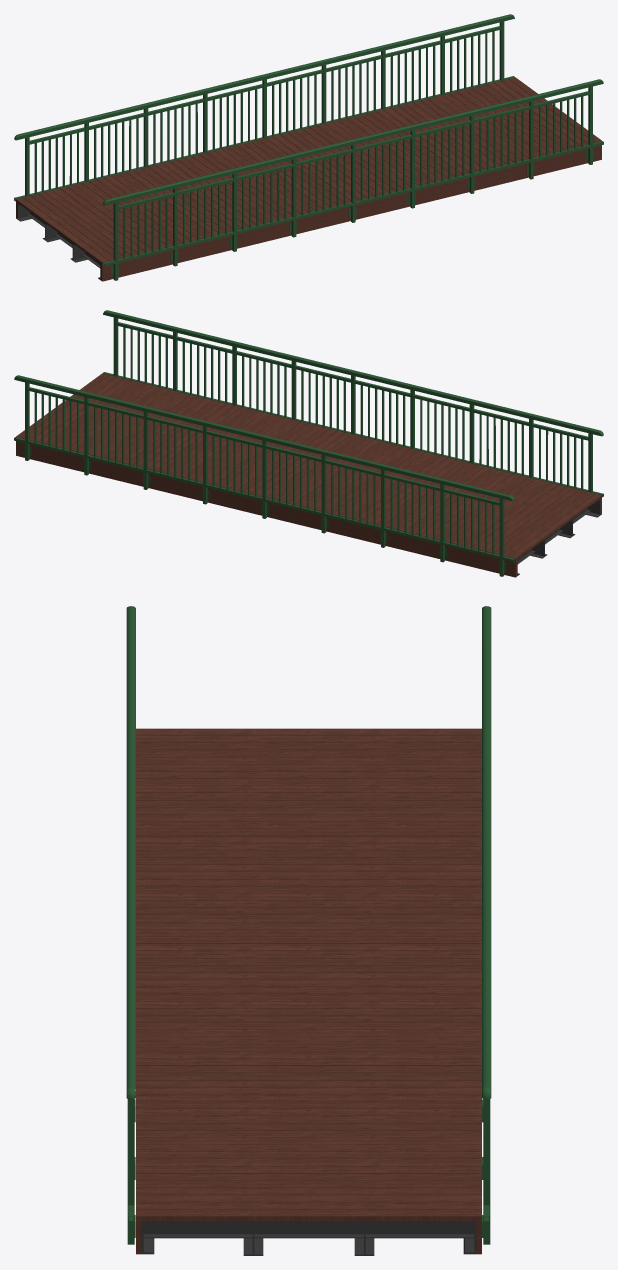
The model's file is Beam_Fiberline2.glb.
3 views of the same model, one above another, from view 1: azimuth 30°, elevation 25°; view 2: azimuth 150°, elevation 25°; view 3: azimuth 270°, elevation 25° (orthographic). The views are drawn at different scales.
Size of the model in its own units: 10 by 1.58 by 3.16.
Materials: 3 (1 with a texture image).
